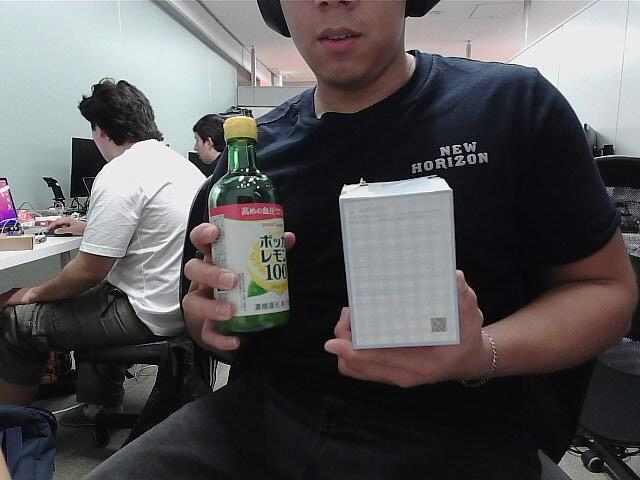Blind_box: (322, 177, 472, 346)
Lemon_sapporo: (199, 106, 299, 356)
